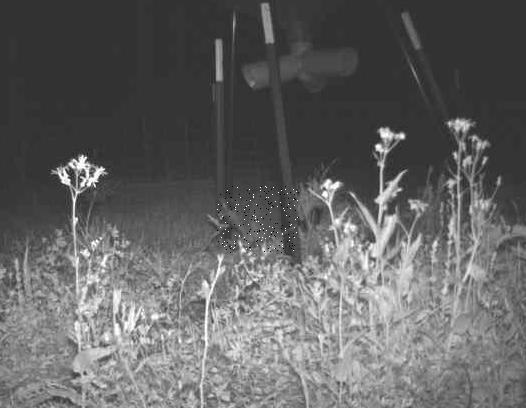Raccoon: (217, 186, 299, 253)
